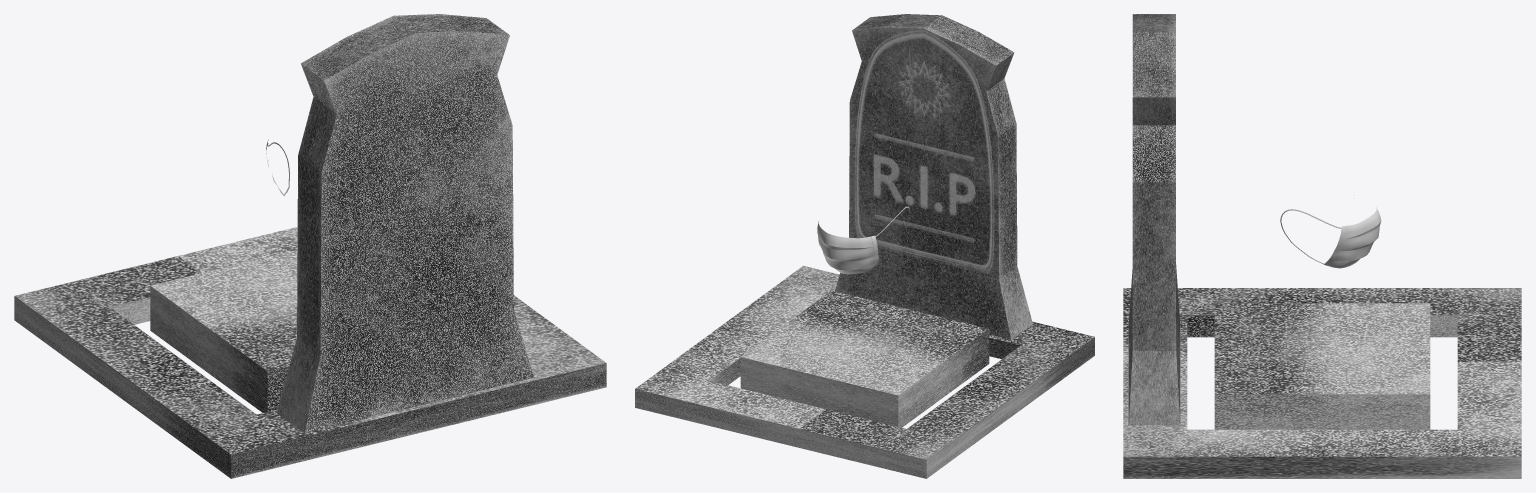
The model's file is meme10.glb.
3 views of the same model, side by side, from view 1: azimuth 30°, elevation 25°; view 2: azimuth 150°, elevation 25°; view 3: azimuth 270°, elevation 25° (orthographic). The views are drawn at different scales.
Visible parts, largest first — view 1: Cube.047, Cube.046, Cube.045; view 2: Cube.047, Cube.046, Cube.045, mask_LP; view 3: Cube.046, Cube.045, Cube.047, mask_LP.
Part boxes in pixels (bbox=[...]): Cube.047: bbox=[277, 14, 533, 433]; Cube.046: bbox=[14, 227, 606, 478]; Cube.045: bbox=[150, 250, 297, 412]; Cube.047: bbox=[835, 14, 1032, 339]; Cube.046: bbox=[635, 265, 1094, 478]; Cube.045: bbox=[740, 290, 989, 427]; mask_LP: bbox=[817, 206, 909, 274]; Cube.046: bbox=[1123, 288, 1521, 478]; Cube.045: bbox=[1214, 303, 1430, 429]; Cube.047: bbox=[1128, 14, 1180, 425]; mask_LP: bbox=[1280, 198, 1381, 268].
Size of the model in its own units: 0.9278 by 0.9343 by 0.9278.
2 materials, 2 textured.
